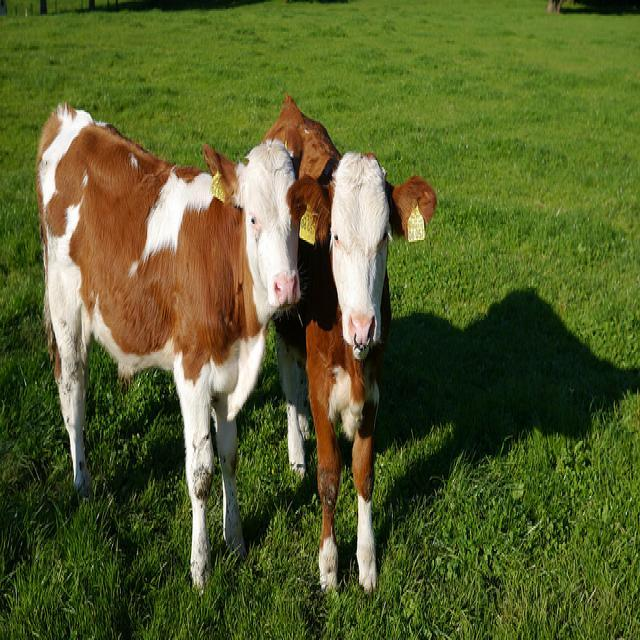cow: (36, 103, 299, 581), (262, 94, 436, 592)
